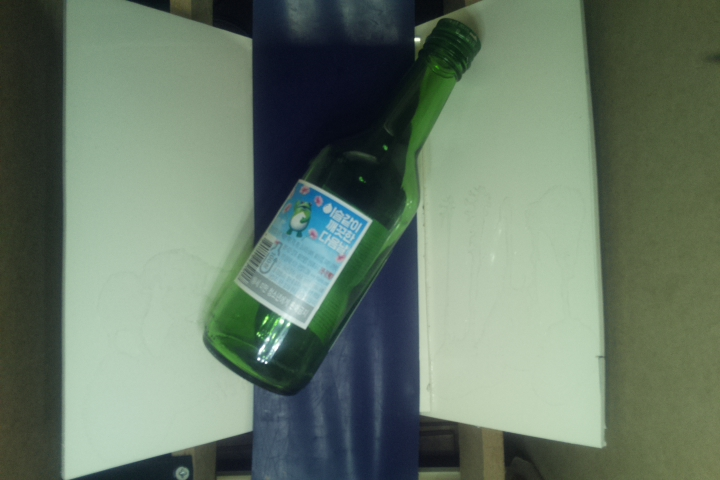soju: (196, 15, 482, 399)
